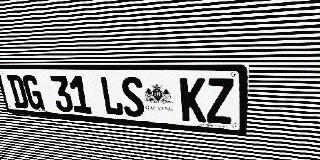1: (67, 76, 92, 114)
3: (50, 75, 74, 112)
D: (6, 75, 30, 109)
G: (21, 75, 45, 110)
K: (180, 77, 206, 122)
L: (99, 76, 124, 116)
S: (120, 76, 145, 118)
Z: (206, 78, 234, 125)
